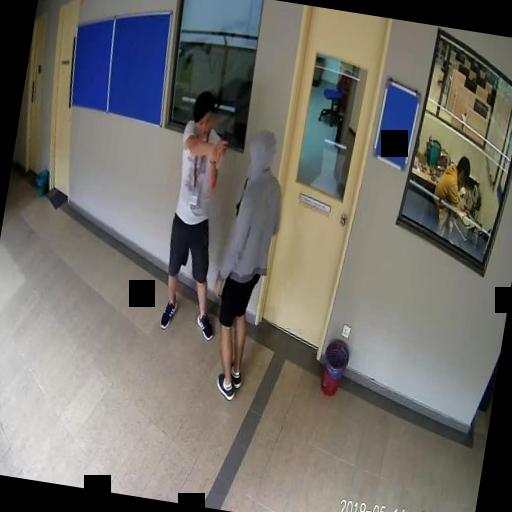Handgun: (216, 127, 242, 159)
